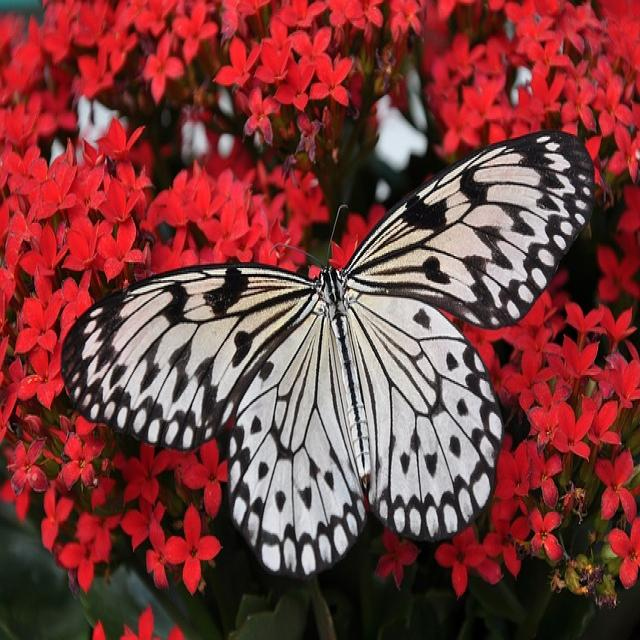butterfly: (65, 130, 595, 577)
